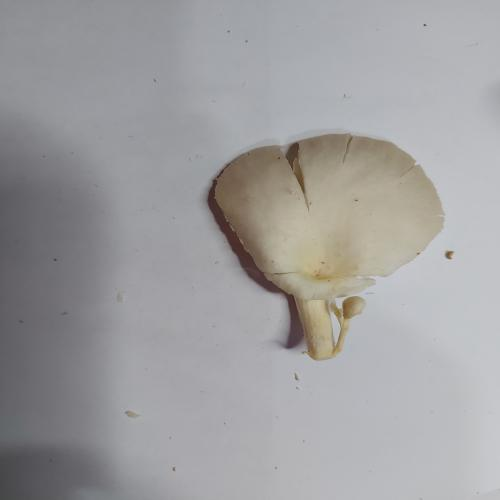Oyster Mushroom: (210, 131, 446, 361)
